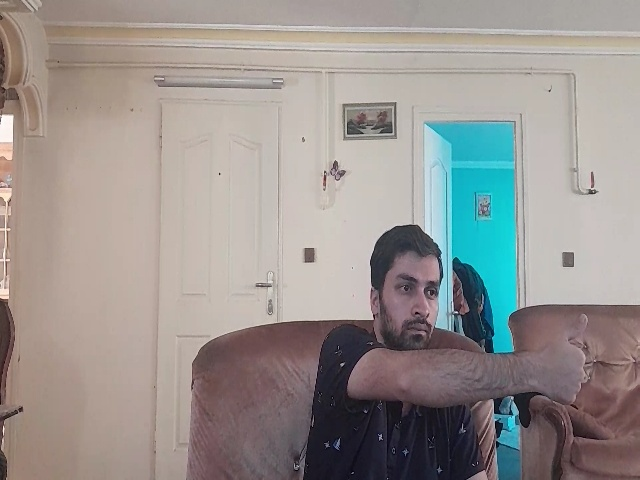ThumbsUp: (531, 312, 588, 407)
